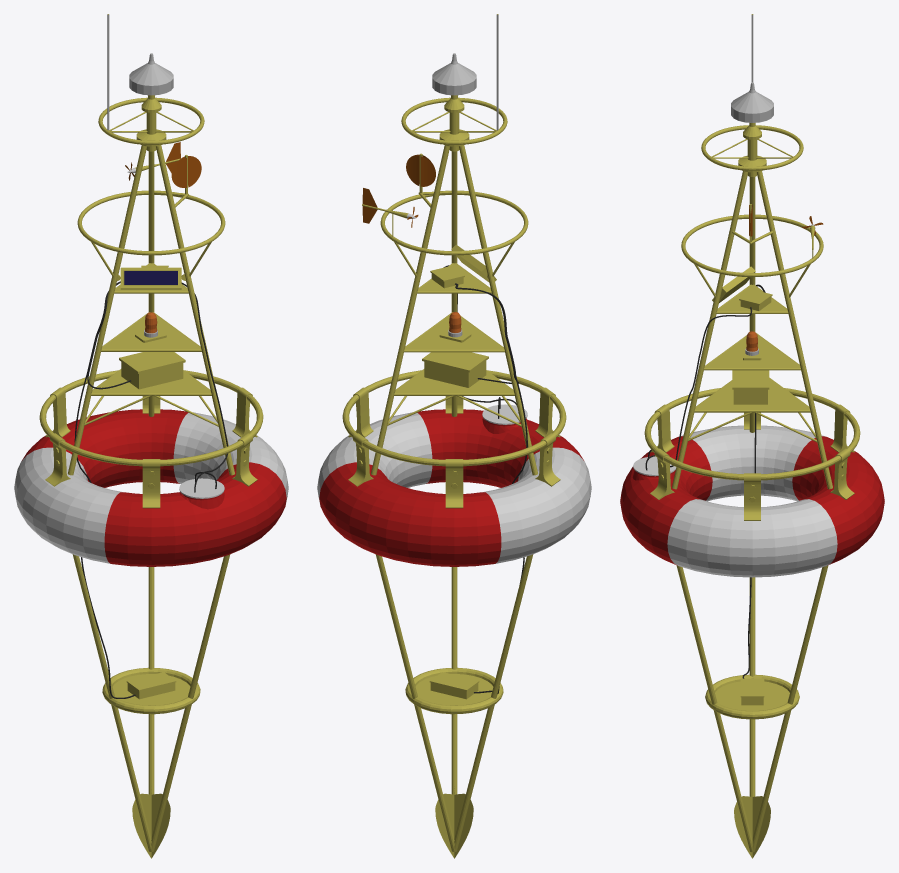
File: HarborBuoy.obj
3 renders of one model, left to right at view 1: azimuth 30°, elevation 25°; view 2: azimuth 150°, elevation 25°; view 3: azimuth 270°, elevation 25°, orthographic. The views are drawn at different scales.
Bounding box in the file's own units: 0.7732 × 2.66 × 0.7732.
